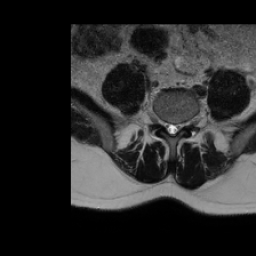CCS_stenosis: (169, 116, 175, 141)
LFS_stenosis: (180, 114, 188, 132)
LLS_normal: (175, 116, 180, 137)
RFS_stenosis: (157, 111, 163, 130)
RLS_normal: (163, 115, 169, 138)
